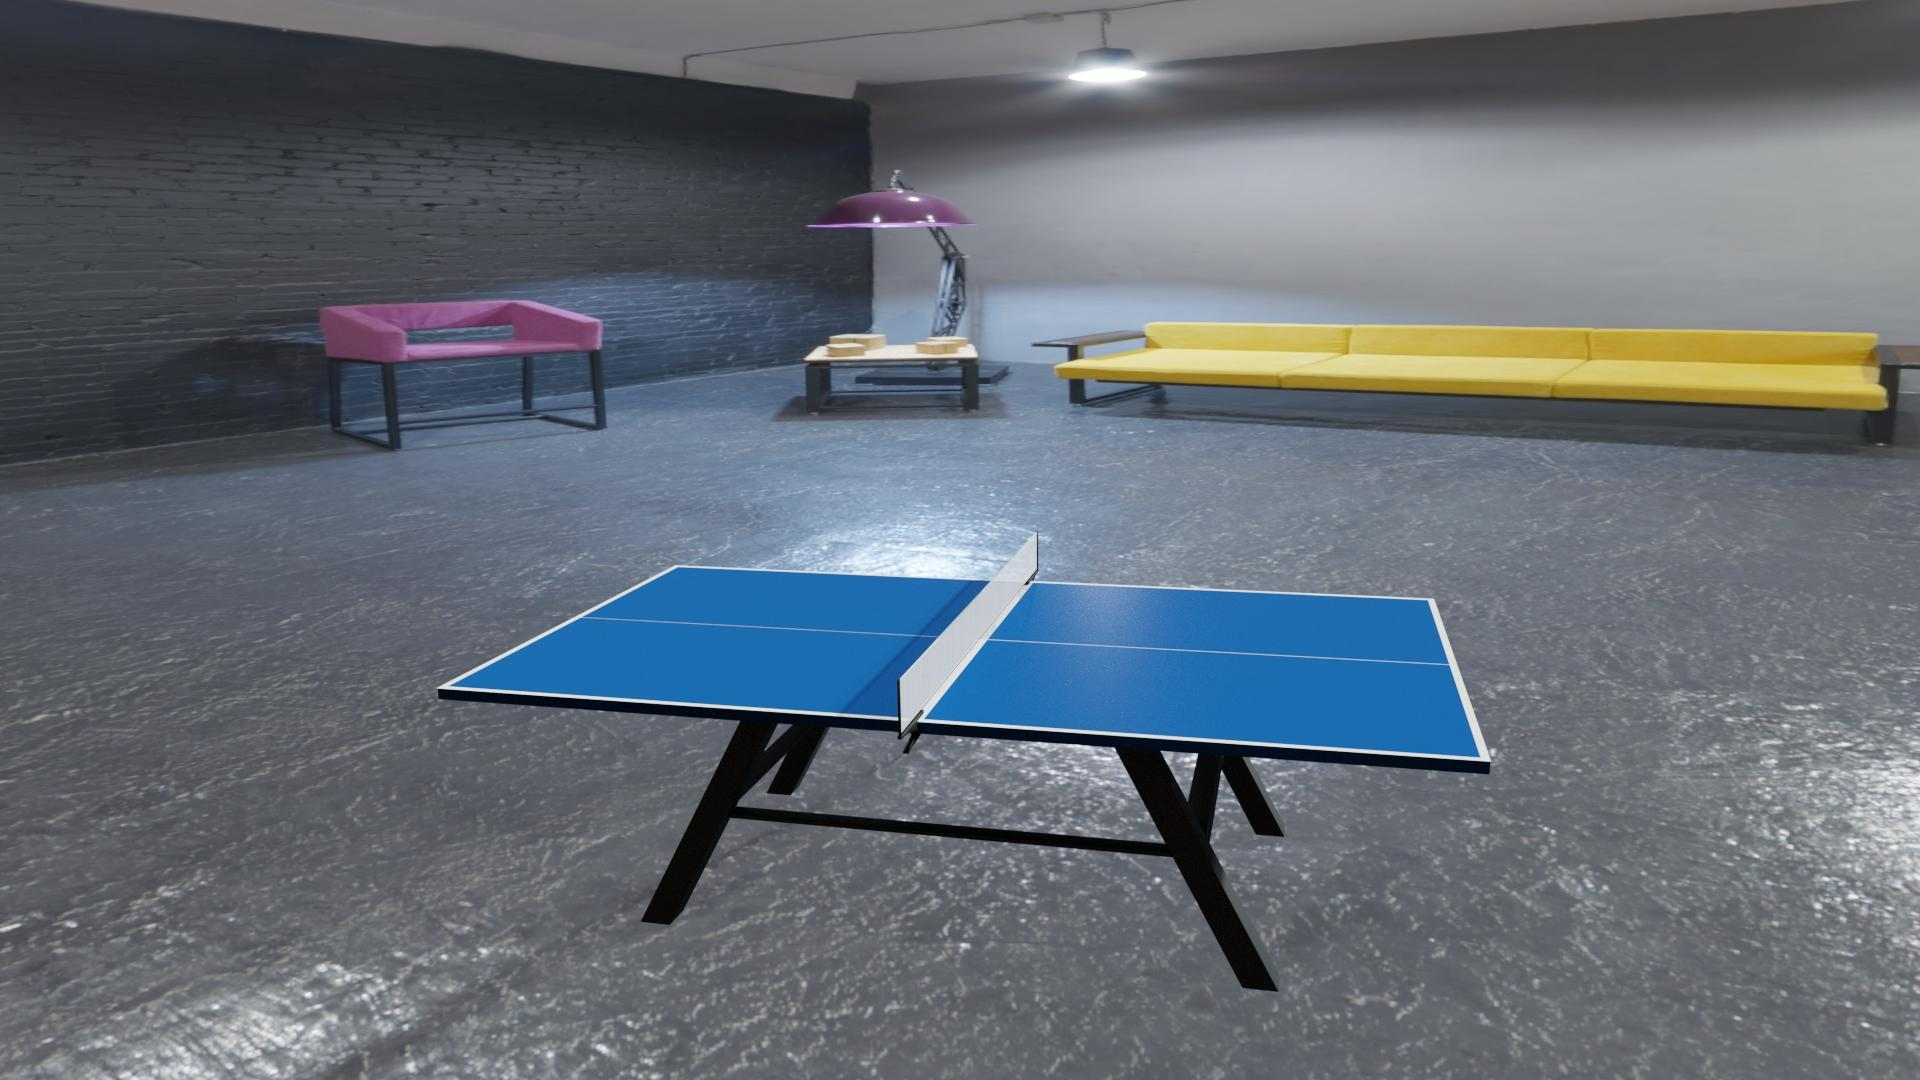table: (447, 567, 1481, 758)
